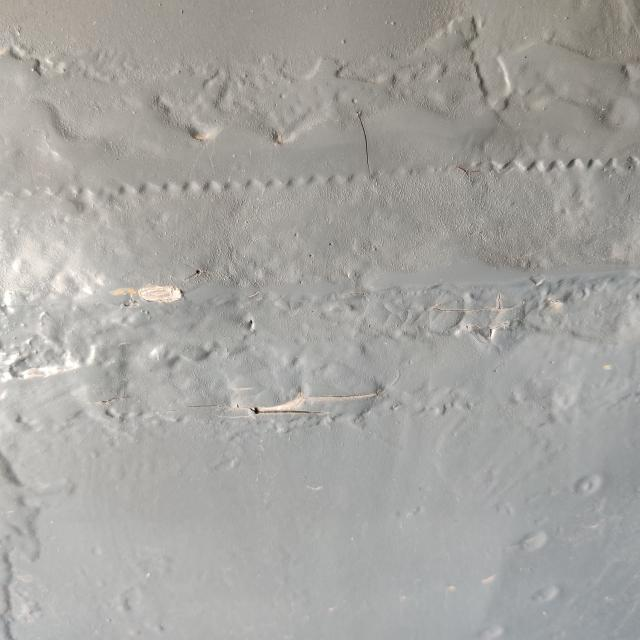Crack: (428, 287, 536, 350), (224, 385, 383, 418), (358, 111, 373, 178)
Paint-off: (111, 284, 183, 304)
